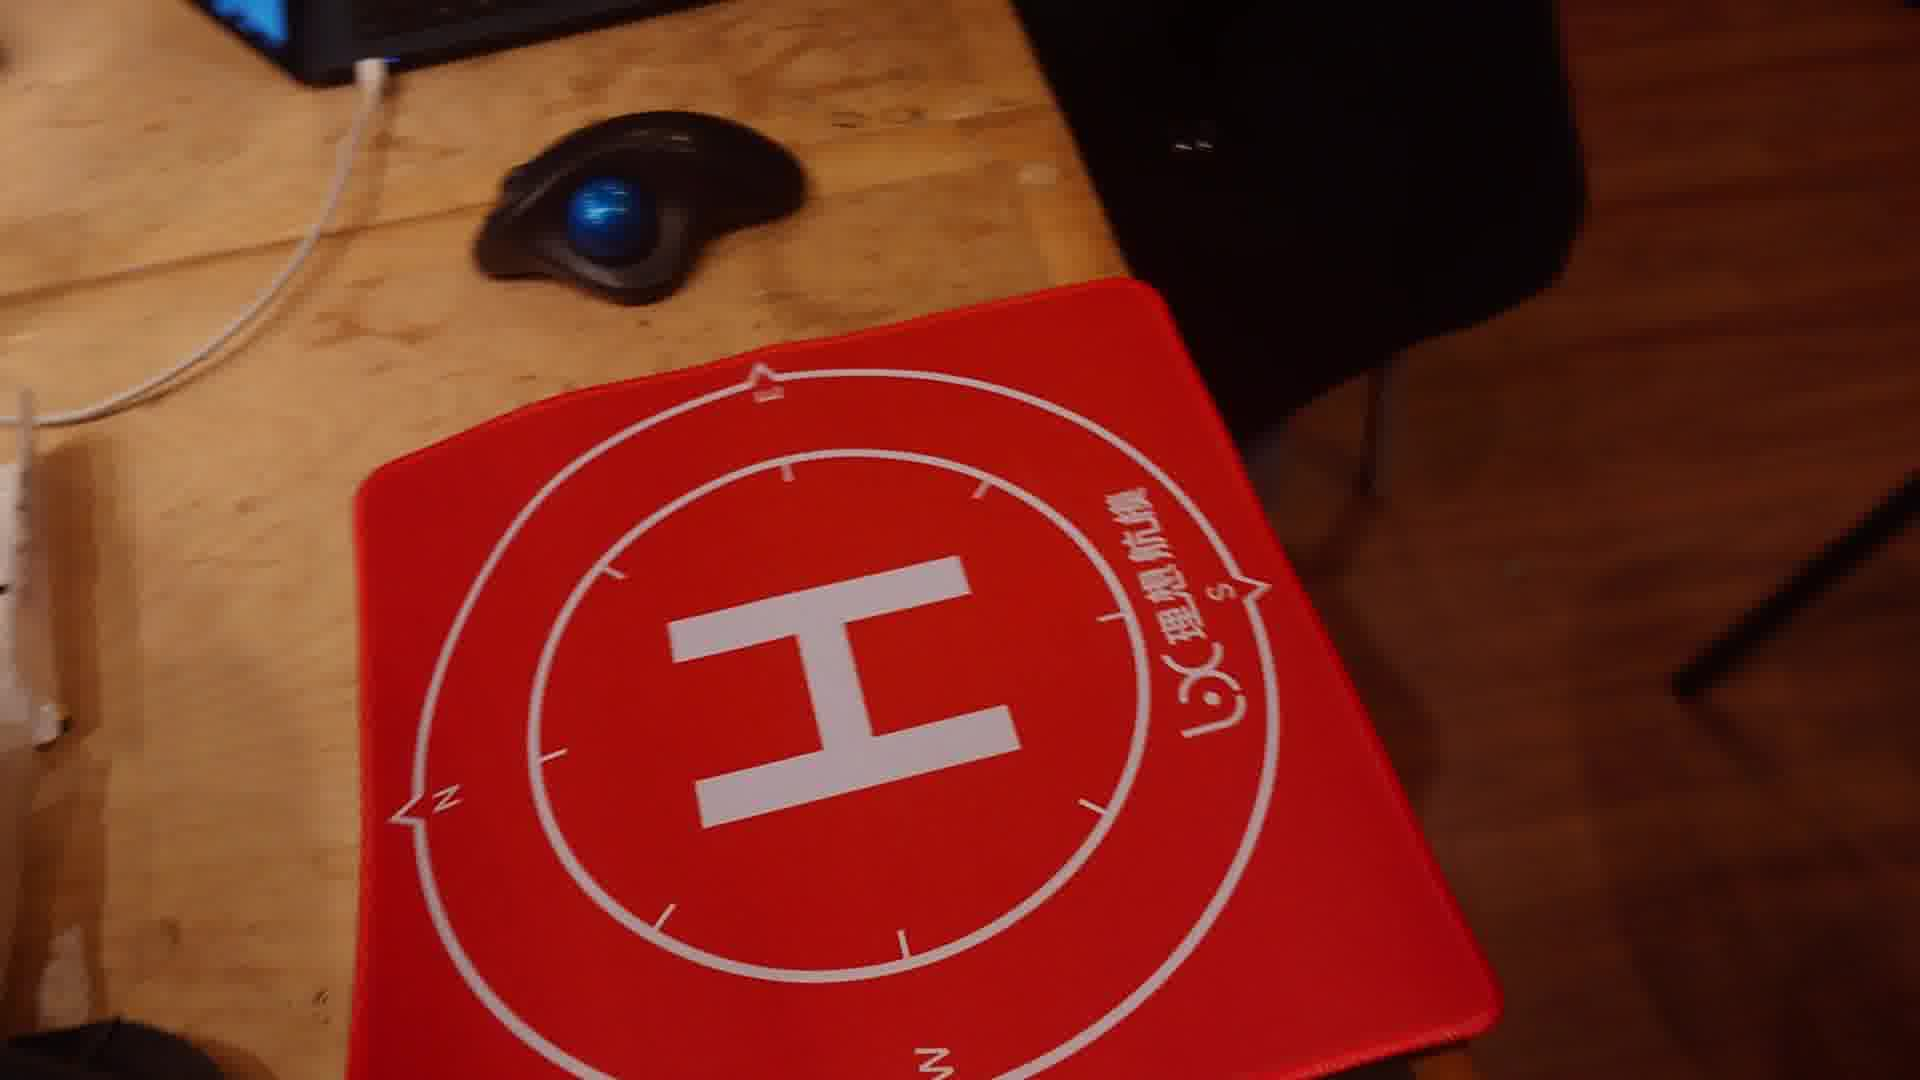H: (667, 554, 1025, 829)
